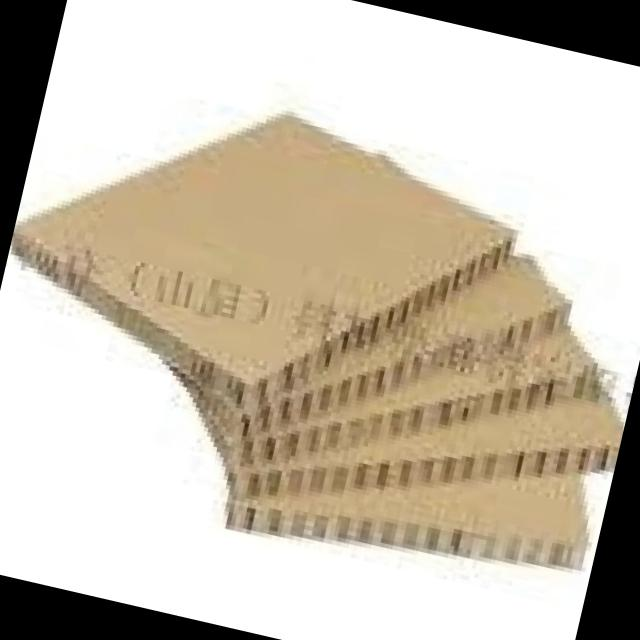cardboard paper: (13, 113, 624, 565)
